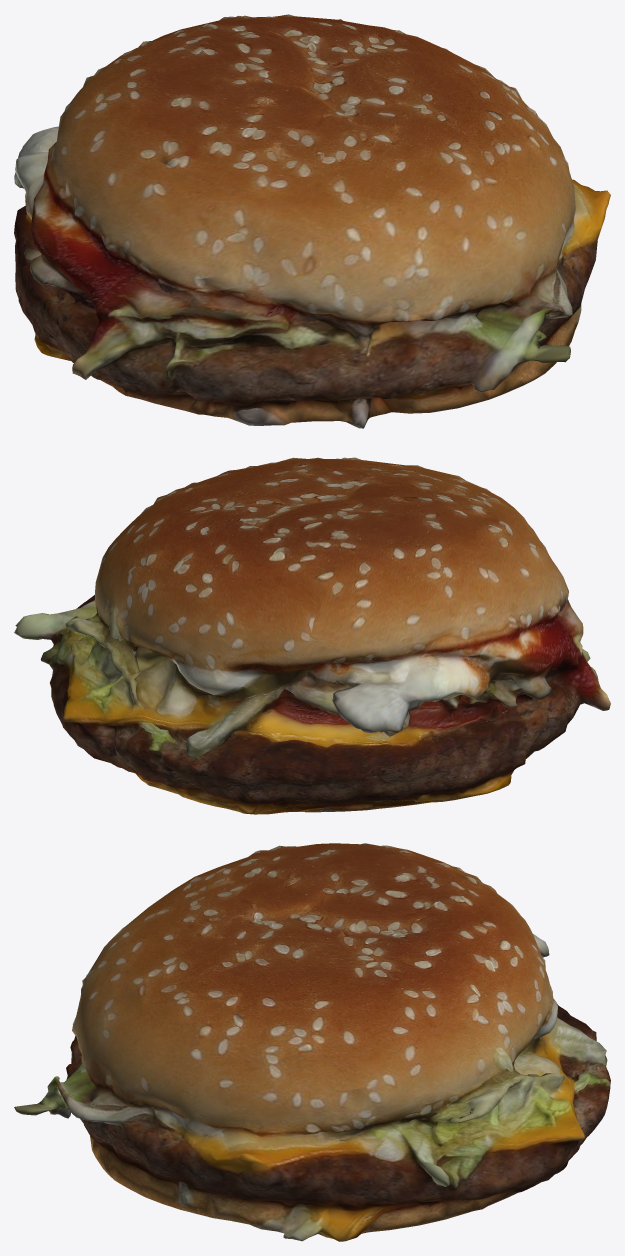
The model's file is burger-v02.glb.
3 renders of one model, top to bottom at view 1: azimuth 30°, elevation 25°; view 2: azimuth 150°, elevation 25°; view 3: azimuth 270°, elevation 25°, orthographic. The views are drawn at different scales.
Visible parts, largest first — view 1: Hamburger_scanned_food,_support_removed; view 2: Hamburger_scanned_food,_support_removed; view 3: Hamburger_scanned_food,_support_removed.
Boxes of the visible parts, <box> form: Hamburger_scanned_food,_support_removed: <box>14,14,610,428</box>; Hamburger_scanned_food,_support_removed: <box>14,457,610,814</box>; Hamburger_scanned_food,_support_removed: <box>14,843,610,1241</box>.
Bounding box in the file's own units: 0.14 × 0.0599 × 0.1435.
Materials: 2 (1 with a texture image).
